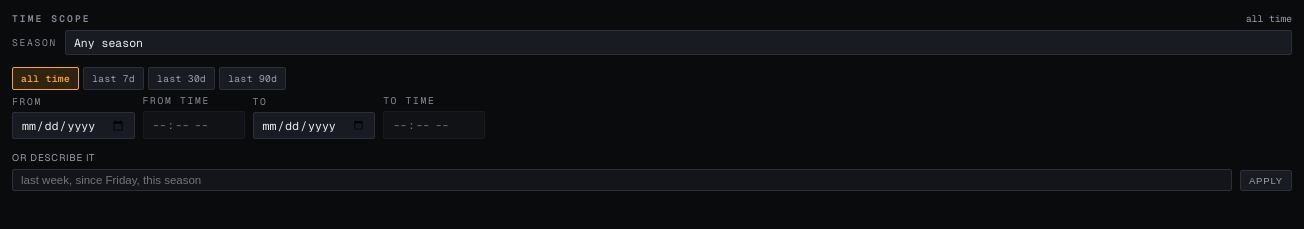
NarrowTimeScope date phrases › declines a season phrase when no season is live
Step 1. Type "this season" into the field labelled "Or describe it" → [622, 180], box x1=12 y1=169 x2=1232 y2=191
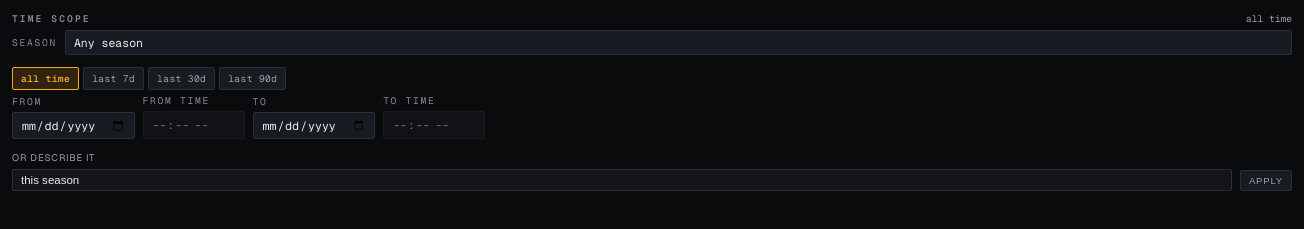
Step 2. Click the button "Apply" → [1266, 181], box x1=1240 y1=170 x2=1292 y2=191
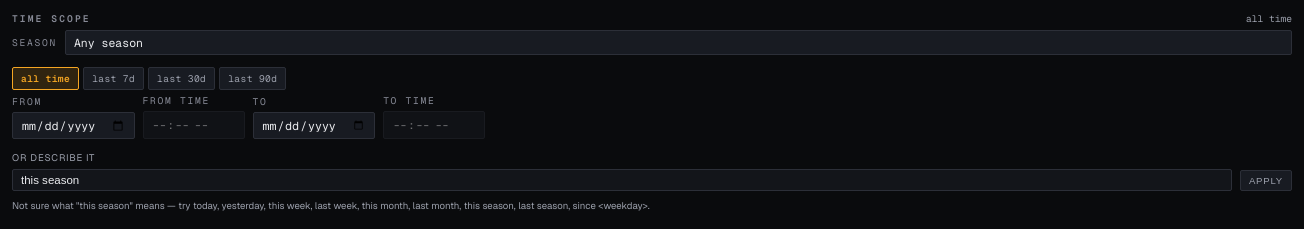
Expected: the text "Not sure what" is shown, x1=12 y1=199 x2=650 y2=212
